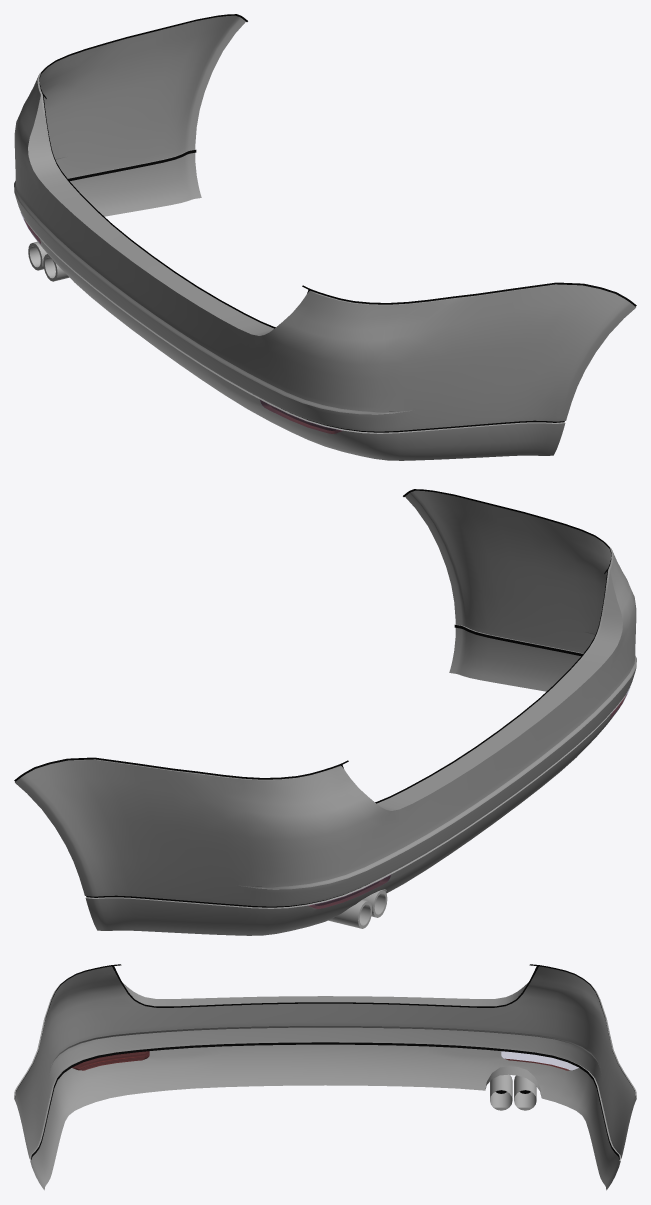
3 renders of one model, top to bottom at view 1: azimuth 30°, elevation 25°; view 2: azimuth 150°, elevation 25°; view 3: azimuth 270°, elevation 25°, orthographic. The views are drawn at different scales.
Visible parts, largest first — view 1: X6164_20_561G_C_X6164_20_561G_C_2_DaS, X6164_20_561G_C_X6164_20_561G_C_2_DaS_E, X6164_20_561G_C_X6164_20_561G_C_4_D, X6164_20_561G_C_X6164_20_561G_C_3_D, X6164_20_561G_C_X6164_20_561G_C_5_DaS; view 2: X6164_20_561G_C_X6164_20_561G_C_2_DaS, X6164_20_561G_C_X6164_20_561G_C_2_DaS_E, X6164_20_561G_C_X6164_20_561G_C_4_D, X6164_20_561G_C_X6164_20_561G_C_5_DaS; view 3: X6164_20_561G_C_X6164_20_561G_C_2_DaS, X6164_20_561G_C_X6164_20_561G_C_2_DaS_E, X6164_20_561G_C_X6164_20_561G_C_4_D, X6164_20_561G_C_X6164_20_561G_C_5_DaS, X6164_20_561G_C_X6164_20_561G_C_3_N, X6164_20_561G_C_X6164_20_561G_C_1_DTaSI.
Boxes of the visible parts, bbox=[...] form: X6164_20_561G_C_X6164_20_561G_C_2_DaS: bbox=[14, 15, 635, 460]; X6164_20_561G_C_X6164_20_561G_C_2_DaS_E: bbox=[14, 19, 632, 433]; X6164_20_561G_C_X6164_20_561G_C_4_D: bbox=[39, 14, 564, 432]; X6164_20_561G_C_X6164_20_561G_C_3_D: bbox=[302, 282, 636, 306]; X6164_20_561G_C_X6164_20_561G_C_5_DaS: bbox=[28, 241, 69, 281]; X6164_20_561G_C_X6164_20_561G_C_2_DaS: bbox=[15, 490, 636, 935]; X6164_20_561G_C_X6164_20_561G_C_2_DaS_E: bbox=[18, 494, 636, 908]; X6164_20_561G_C_X6164_20_561G_C_4_D: bbox=[14, 570, 607, 907]; X6164_20_561G_C_X6164_20_561G_C_5_DaS: bbox=[328, 890, 387, 928]; X6164_20_561G_C_X6164_20_561G_C_2_DaS: bbox=[14, 966, 636, 1190]; X6164_20_561G_C_X6164_20_561G_C_2_DaS_E: bbox=[14, 971, 636, 1160]; X6164_20_561G_C_X6164_20_561G_C_4_D: bbox=[31, 964, 635, 1159]; X6164_20_561G_C_X6164_20_561G_C_5_DaS: bbox=[490, 1074, 536, 1110]; X6164_20_561G_C_X6164_20_561G_C_3_N: bbox=[72, 1051, 149, 1070]; X6164_20_561G_C_X6164_20_561G_C_1_DTaSI: bbox=[501, 1051, 578, 1069].
Bounding box in the file's own units: 98.08 × 55.54 × 213.
